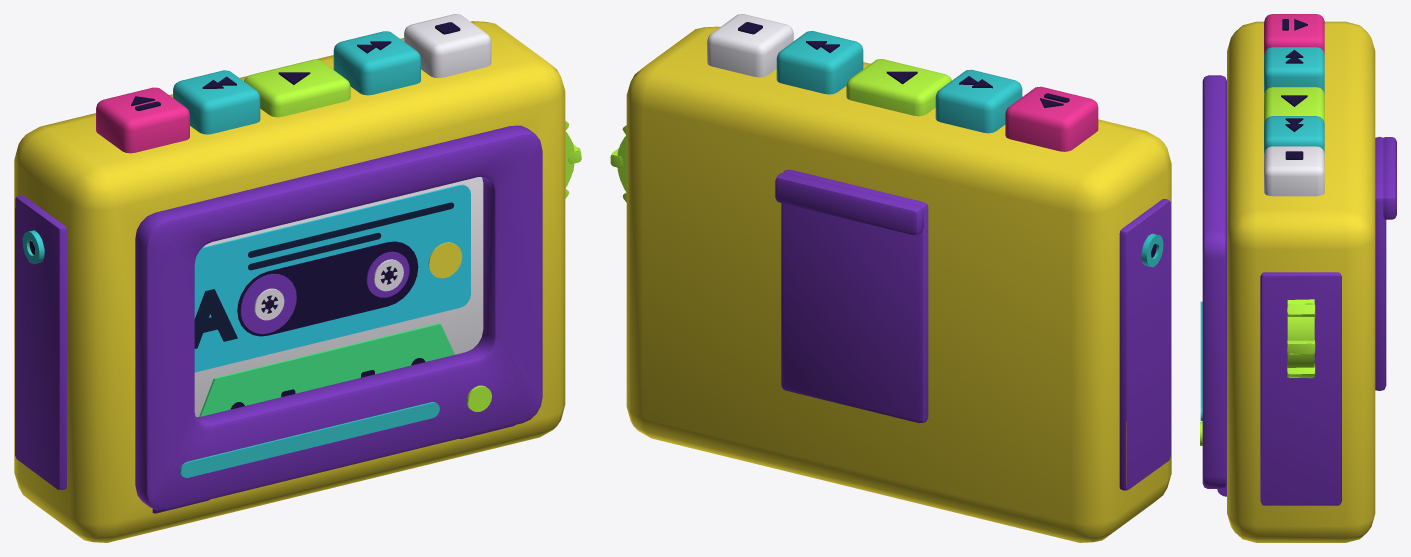
The model's file is crossfader-player.glb.
3 renders of one model, left to right at view 1: azimuth 30°, elevation 25°; view 2: azimuth 150°, elevation 25°; view 3: azimuth 270°, elevation 25°, orthographic. The views are drawn at different scales.
Parts seen in each view (by area): view 1: Body, DoorSurface, CassetteShell, ButtonEject, ButtonForward, ButtonPlay, ButtonRewind, ButtonStop, ReelLeft, ReelRight; view 2: Body, ButtonEject, ButtonForward, ButtonPlay, ButtonRewind, ButtonStop; view 3: Body, DoorSurface, ButtonStop, ButtonRewind, VolumeWheel, ButtonEject, ButtonForward, ButtonPlay.
Boxes of the visible parts, x1=… form: Body: x1=14, y1=21, x2=565, y2=542; DoorSurface: x1=135, y1=125, x2=542, y2=510; CassetteShell: x1=194, y1=177, x2=483, y2=417; ButtonEject: x1=96, y1=87, x2=189, y2=153; ButtonForward: x1=333, y1=31, x2=420, y2=95; ButtonPlay: x1=244, y1=59, x2=350, y2=117; ButtonRewind: x1=173, y1=70, x2=260, y2=134; ButtonStop: x1=404, y1=14, x2=491, y2=78; ReelLeft: x1=240, y1=273, x2=296, y2=333; ReelRight: x1=366, y1=251, x2=409, y2=297; Body: x1=626, y1=26, x2=1171, y2=542; ButtonEject: x1=1005, y1=86, x2=1098, y2=151; ButtonForward: x1=776, y1=31, x2=863, y2=94; ButtonPlay: x1=846, y1=59, x2=951, y2=116; ButtonRewind: x1=935, y1=69, x2=1022, y2=133; ButtonStop: x1=707, y1=14, x2=793, y2=77; Body: x1=1217, y1=21, x2=1396, y2=542; DoorSurface: x1=1200, y1=75, x2=1226, y2=488; ButtonStop: x1=1264, y1=146, x2=1324, y2=196; ButtonRewind: x1=1264, y1=47, x2=1324, y2=93; VolumeWheel: x1=1287, y1=299, x2=1315, y2=378; ButtonEject: x1=1264, y1=14, x2=1324, y2=54; ButtonForward: x1=1264, y1=116, x2=1324, y2=153; ButtonPlay: x1=1264, y1=87, x2=1324, y2=123.
Bounding box in the file's own units: 0.4089 × 0.2932 × 0.146.
